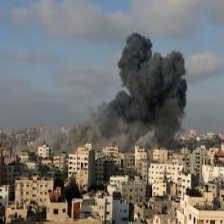smoke: (45, 33, 192, 148)
